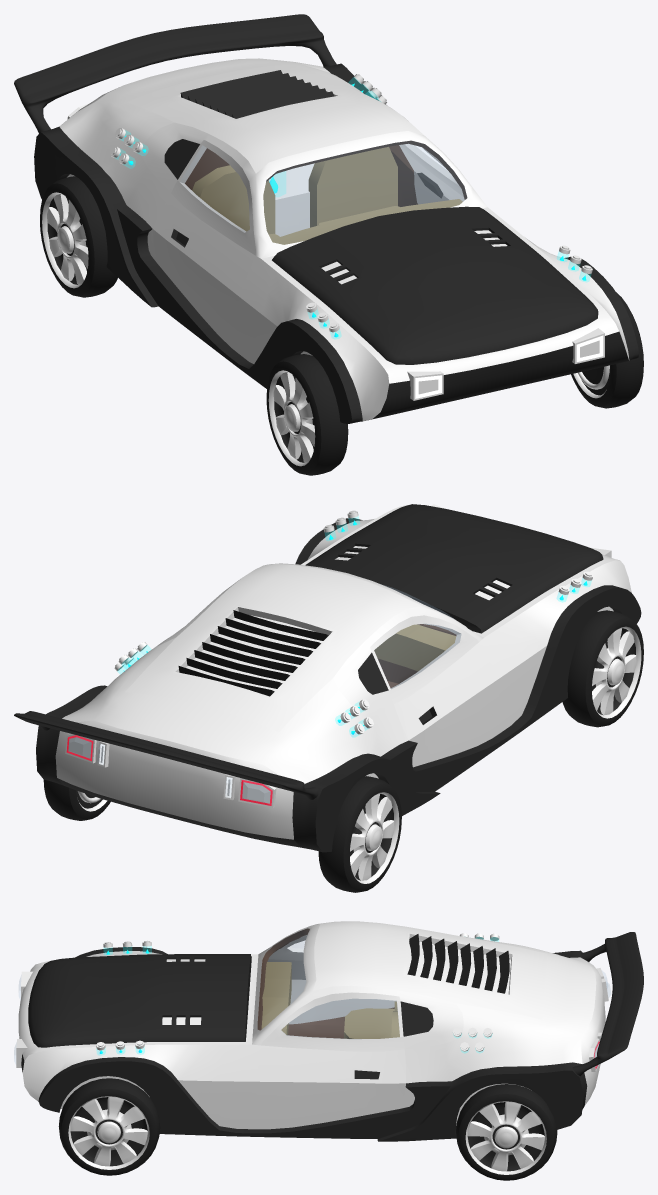
File: cyber.glb
3 views of the same model, one above another, from view 1: azimuth 30°, elevation 25°; view 2: azimuth 150°, elevation 25°; view 3: azimuth 270°, elevation 25° (orthographic). The views are drawn at different scales.
Visible parts, largest first — view 1: Chassie_Metaldarker_0, Chassie_Metal_0, emit.001_Glass_0, Door_R_Metal_0, internal_internal light_0, wheel_front_right, wheel_rear_right, Door_R_Glass_0, wheel_front_left, internal_internal_0, internal_Metal_0, Door_L_Metal_0 (+2 smaller); view 2: Chassie_Metal_0, Chassie_Metaldarker_0, Door_R_Metal_0, wheel_front_right, wheel_rear_right, Door_R_Glass_0, internal_internal light_0, wheel_rear_left, Chassie_Glass_0, emit_Glassemit_0, internal_internal_0; view 3: Chassie_Metal_0, Chassie_Metaldarker_0, Door_L_Metal_0, wheel_front_left, wheel_rear_left, Door_L_Glass_0, internal_internal light_0, emit.001_Glass_0, Door_R_Metal_0, internal_internal_0, emit_Glassemit_0.
Boxes of the visible parts, left/top/right/bottom form: Chassie_Metaldarker_0: left=14, top=14, right=638, bottom=423; Chassie_Metal_0: left=59, top=58, right=629, bottom=421; emit.001_Glass_0: left=263, top=141, right=466, bottom=244; Door_R_Metal_0: left=152, top=140, right=255, bottom=352; internal_internal light_0: left=192, top=146, right=462, bottom=244; wheel_front_right: left=266, top=354, right=348, bottom=475; wheel_rear_right: left=40, top=176, right=117, bottom=297; Door_R_Glass_0: left=180, top=146, right=249, bottom=232; wheel_front_left: left=571, top=292, right=643, bottom=408; internal_internal_0: left=185, top=140, right=467, bottom=206; internal_Metal_0: left=269, top=163, right=314, bottom=236; Door_L_Metal_0: left=399, top=143, right=464, bottom=204; Chassie_Metal_0: left=55, top=504, right=631, bottom=839; Chassie_Metaldarker_0: left=14, top=504, right=641, bottom=852; Door_R_Metal_0: left=370, top=615, right=499, bottom=767; wheel_front_right: left=562, top=610, right=643, bottom=727; wheel_rear_right: left=318, top=776, right=401, bottom=892; Door_R_Glass_0: left=374, top=624, right=460, bottom=688; internal_internal light_0: left=374, top=624, right=456, bottom=671; wheel_rear_left: left=43, top=779, right=110, bottom=820; Chassie_Glass_0: left=67, top=735, right=272, bottom=805; emit_Glassemit_0: left=117, top=516, right=591, bottom=737; internal_internal_0: left=377, top=624, right=456, bottom=688; Chassie_Metal_0: left=16, top=921, right=608, bottom=1129; Chassie_Metaldarker_0: left=21, top=932, right=643, bottom=1141; Door_L_Metal_0: left=256, top=992, right=405, bottom=1129; wheel_front_left: left=58, top=1078, right=160, bottom=1175; wheel_rear_left: left=456, top=1084, right=557, bottom=1180; Door_L_Glass_0: left=281, top=999, right=399, bottom=1038; internal_internal light_0: left=261, top=962, right=399, bottom=1038; emit.001_Glass_0: left=258, top=929, right=309, bottom=1029; Door_R_Metal_0: left=267, top=935, right=394, bottom=1024; internal_internal_0: left=257, top=928, right=394, bottom=1038; emit_Glassemit_0: left=96, top=937, right=498, bottom=1055.
Size of the model in its own units: 2.4 by 1.38 by 4.61.
